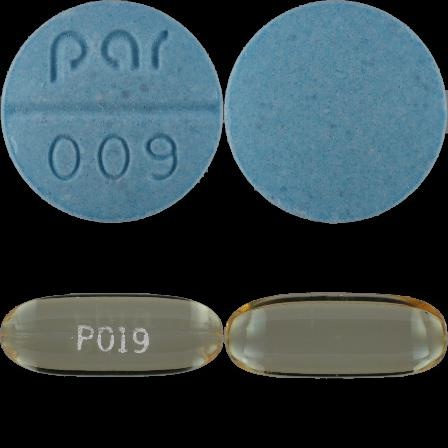49884-009: (0, 0, 224, 224)
